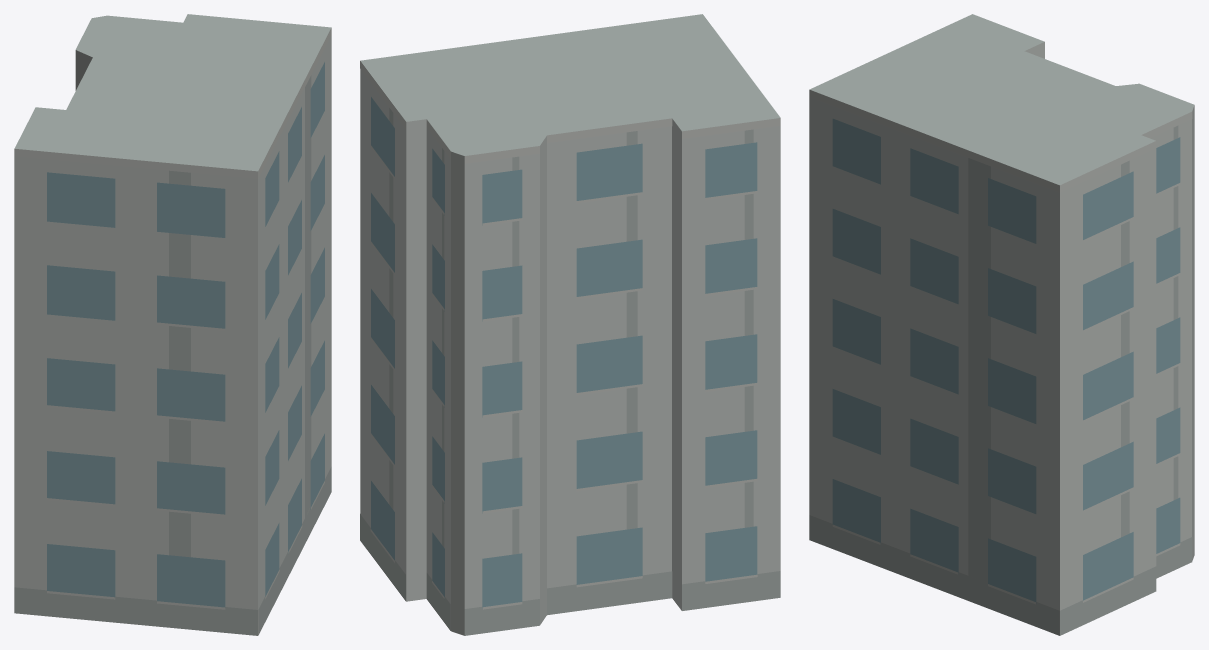
Rendered from survey-upis-33003796.glb.
3 renders of one model, left to right at view 1: azimuth 30°, elevation 25°; view 2: azimuth 150°, elevation 25°; view 3: azimuth 270°, elevation 25°, orthographic. The views are drawn at different scales.
Parts seen in each view (by area): view 1: survey-upis-33003796.tmp; view 2: survey-upis-33003796.tmp; view 3: survey-upis-33003796.tmp.
Boxes of the visible parts, bbox=[...] form: survey-upis-33003796.tmp: bbox=[14, 14, 331, 635]; survey-upis-33003796.tmp: bbox=[360, 14, 780, 635]; survey-upis-33003796.tmp: bbox=[809, 14, 1194, 635].
Size of the model in its own units: 12.08 by 14.8 by 11.48.
